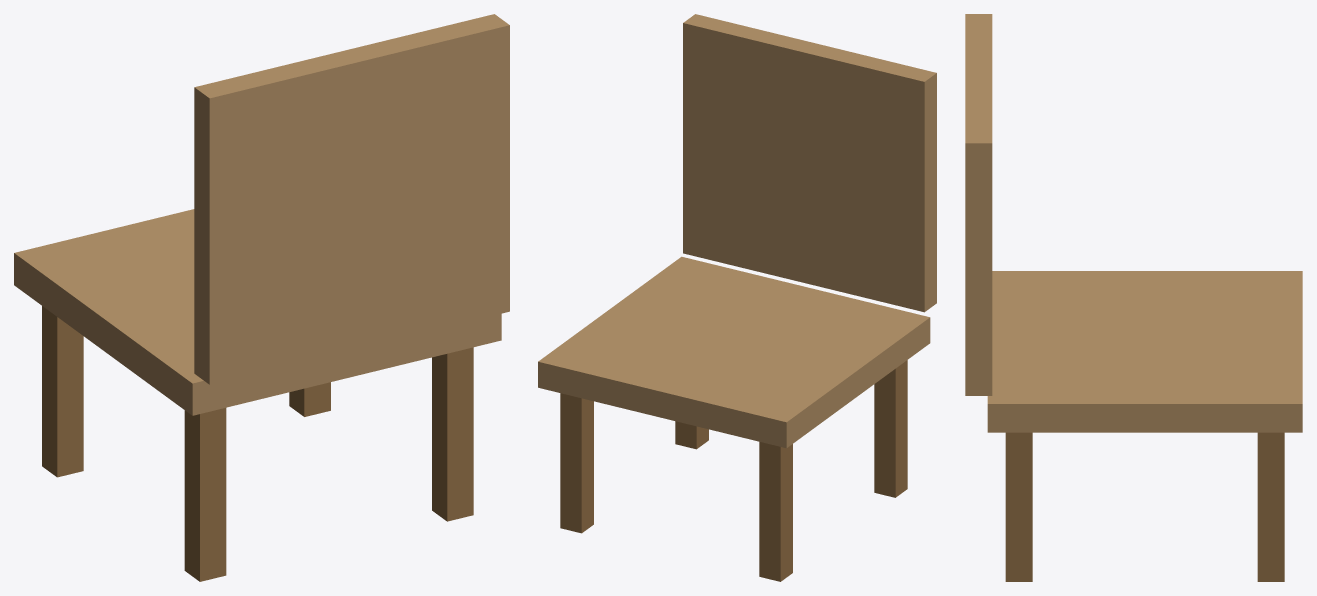
The model's file is chair.glb.
3 views of the same model, side by side, from view 1: azimuth 30°, elevation 25°; view 2: azimuth 150°, elevation 25°; view 3: azimuth 270°, elevation 25° (orthographic). The views are drawn at different scales.
Parts seen in each view (by area): view 1: Cube.001, Cube, Cube.004, Cube.005, Cube.002, Cube.003; view 2: Cube.001, Cube, Cube.002, Cube.003, Cube.004, Cube.005; view 3: Cube, Cube.001, Cube.003, Cube.005.
Part boxes in pixels (x1,y1,x2,y2): Cube.001: [194, 14, 509, 384]; Cube: [14, 209, 501, 415]; Cube.004: [184, 408, 226, 581]; Cube.005: [432, 347, 473, 521]; Cube.002: [42, 306, 83, 477]; Cube.003: [289, 382, 330, 416]; Cube.001: [683, 14, 936, 312]; Cube: [538, 256, 930, 448]; Cube.002: [759, 441, 792, 581]; Cube.003: [560, 393, 593, 533]; Cube.004: [874, 360, 907, 497]; Cube.005: [675, 421, 708, 449]; Cube: [987, 271, 1302, 432]; Cube.001: [965, 14, 992, 395]; Cube.003: [1257, 432, 1284, 581]; Cube.005: [1005, 432, 1032, 581].
Size of the model in its own units: 0.7 by 1.09 by 0.75.
